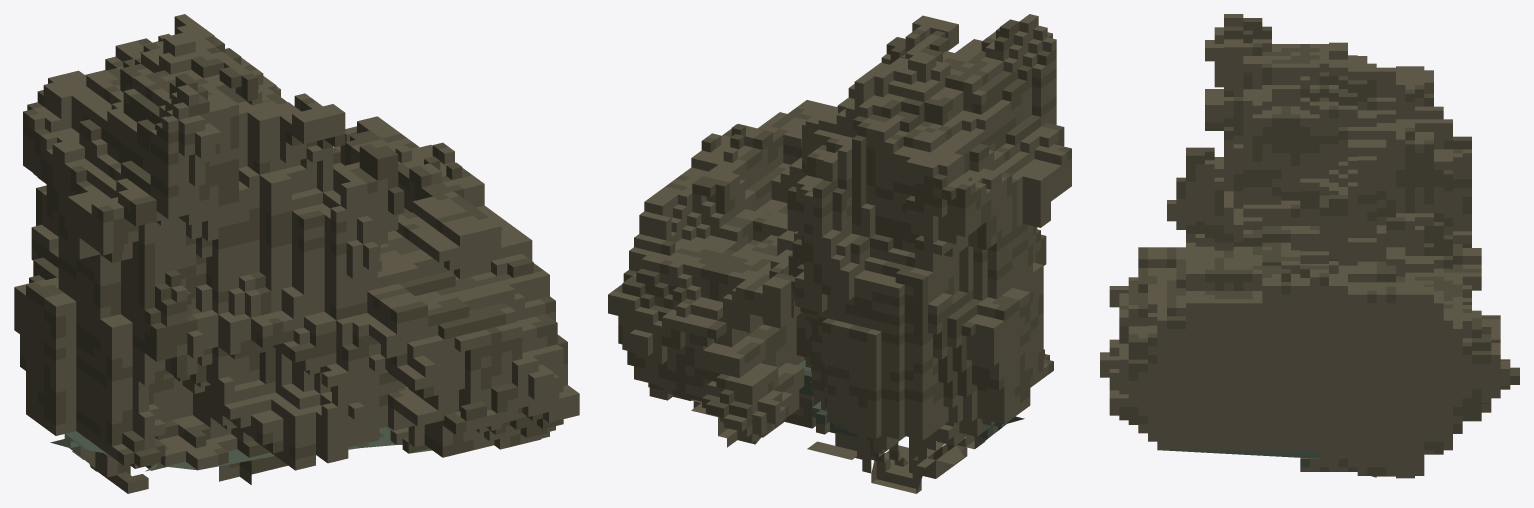
Rendered from Mountain.fbx.
The picture shows the model from 3 angles, left to right: view 1: azimuth 30°, elevation 25°; view 2: azimuth 150°, elevation 25°; view 3: azimuth 270°, elevation 25°; orthographic projection. The views are drawn at different scales.
Parts seen in each view (by area): view 1: Untitled; view 2: Untitled; view 3: Untitled.
Boxes of the visible parts, x1,y1,x2,y2 form: Untitled: (14, 14, 579, 493); Untitled: (608, 14, 1071, 493); Untitled: (1100, 14, 1519, 478).
Size of the model in its own units: 3.7 by 4.4 by 4.4.
